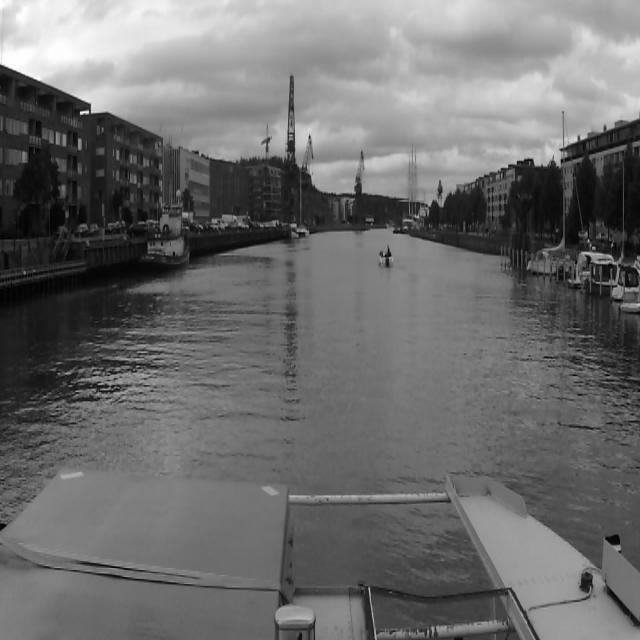ship: (526, 110, 566, 278), (140, 190, 190, 278), (298, 168, 310, 237), (379, 244, 393, 268), (288, 221, 298, 239)
